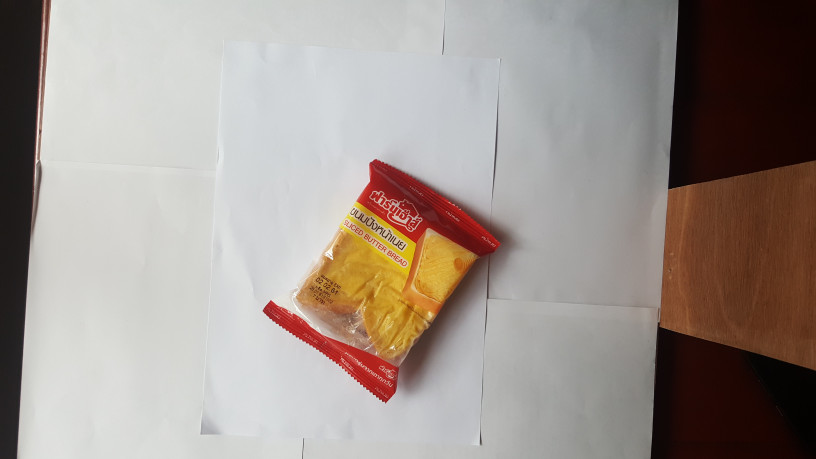farmhouse-bread-butter: (260, 147, 502, 408)
